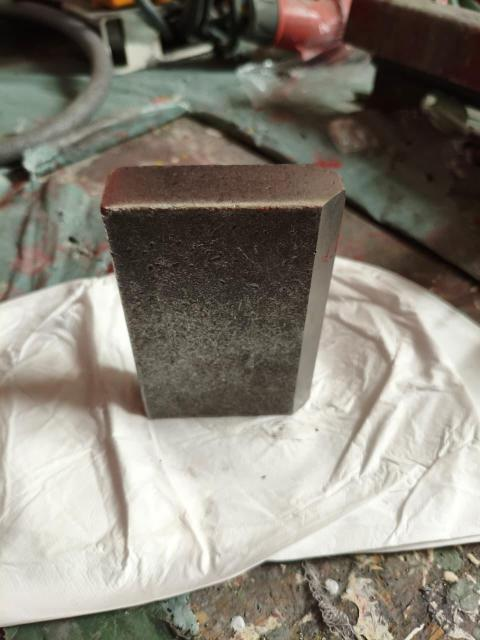Metal: (107, 167, 343, 423)
